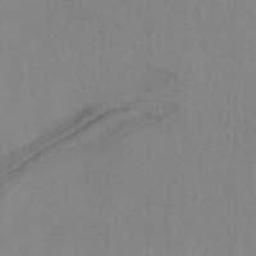Oil spot: (0, 63, 183, 204)
